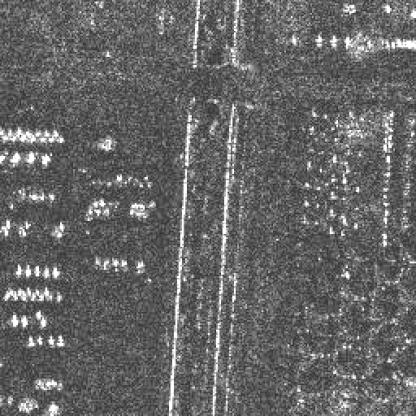airplane: (380, 3, 394, 15), (326, 32, 336, 46), (57, 325, 63, 346), (314, 34, 324, 46), (342, 34, 350, 47), (10, 312, 18, 325), (26, 336, 36, 346), (52, 266, 60, 278), (42, 268, 51, 278), (13, 265, 21, 275), (24, 265, 31, 276), (42, 286, 49, 296), (34, 266, 41, 276), (34, 309, 42, 317), (39, 318, 47, 326), (47, 335, 54, 344), (13, 128, 21, 135), (24, 286, 31, 294), (53, 136, 64, 141), (5, 128, 11, 136), (28, 135, 34, 143), (36, 336, 42, 344), (24, 130, 31, 136), (42, 130, 49, 136), (51, 130, 58, 136), (47, 135, 54, 141), (8, 135, 16, 140), (38, 136, 46, 141), (410, 10, 414, 20), (3, 291, 8, 299), (8, 288, 13, 296), (29, 292, 34, 300), (34, 288, 39, 296), (18, 135, 24, 141), (38, 294, 43, 301), (55, 294, 60, 301), (0, 135, 6, 140), (34, 130, 39, 136), (13, 291, 18, 297), (16, 288, 21, 294), (21, 293, 26, 299)
